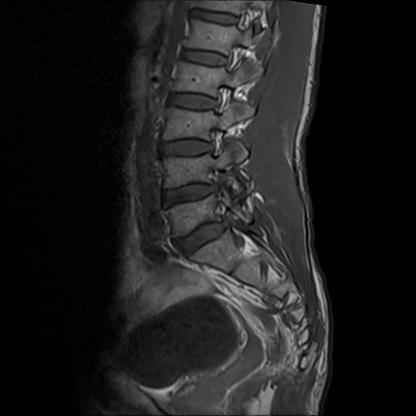Disc Bulgerotation: (168, 220, 240, 250)
